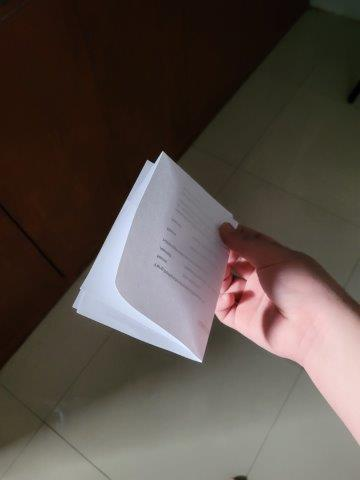kertas: (71, 152, 235, 363)
